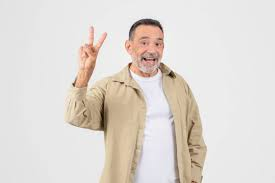peace_sign: (77, 23, 108, 71)
